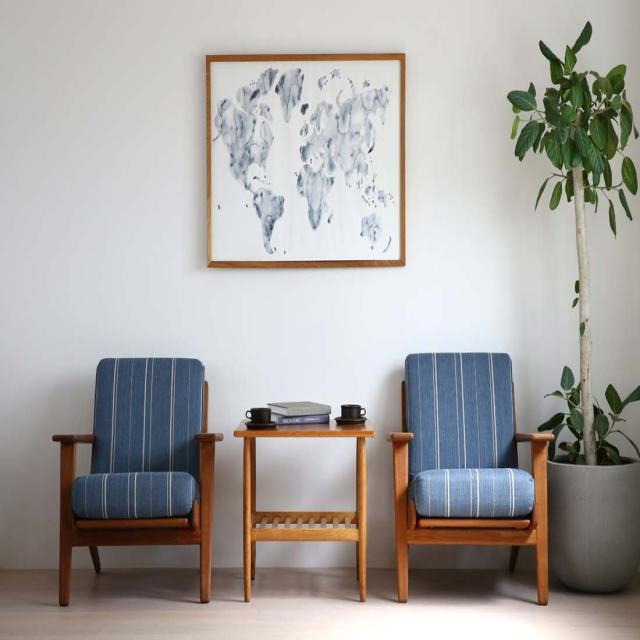vintage chair: (51, 356, 223, 604), (392, 350, 556, 606)
vintage desk: (233, 411, 374, 603)
